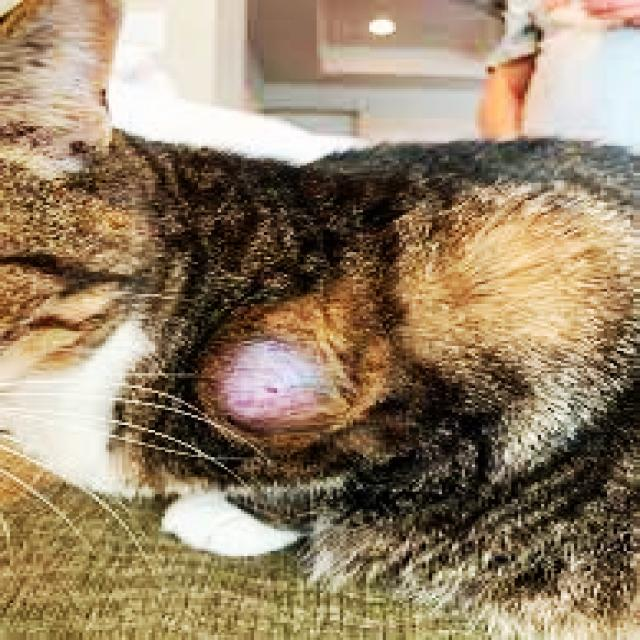lump_and_bump: (211, 342, 330, 428)
